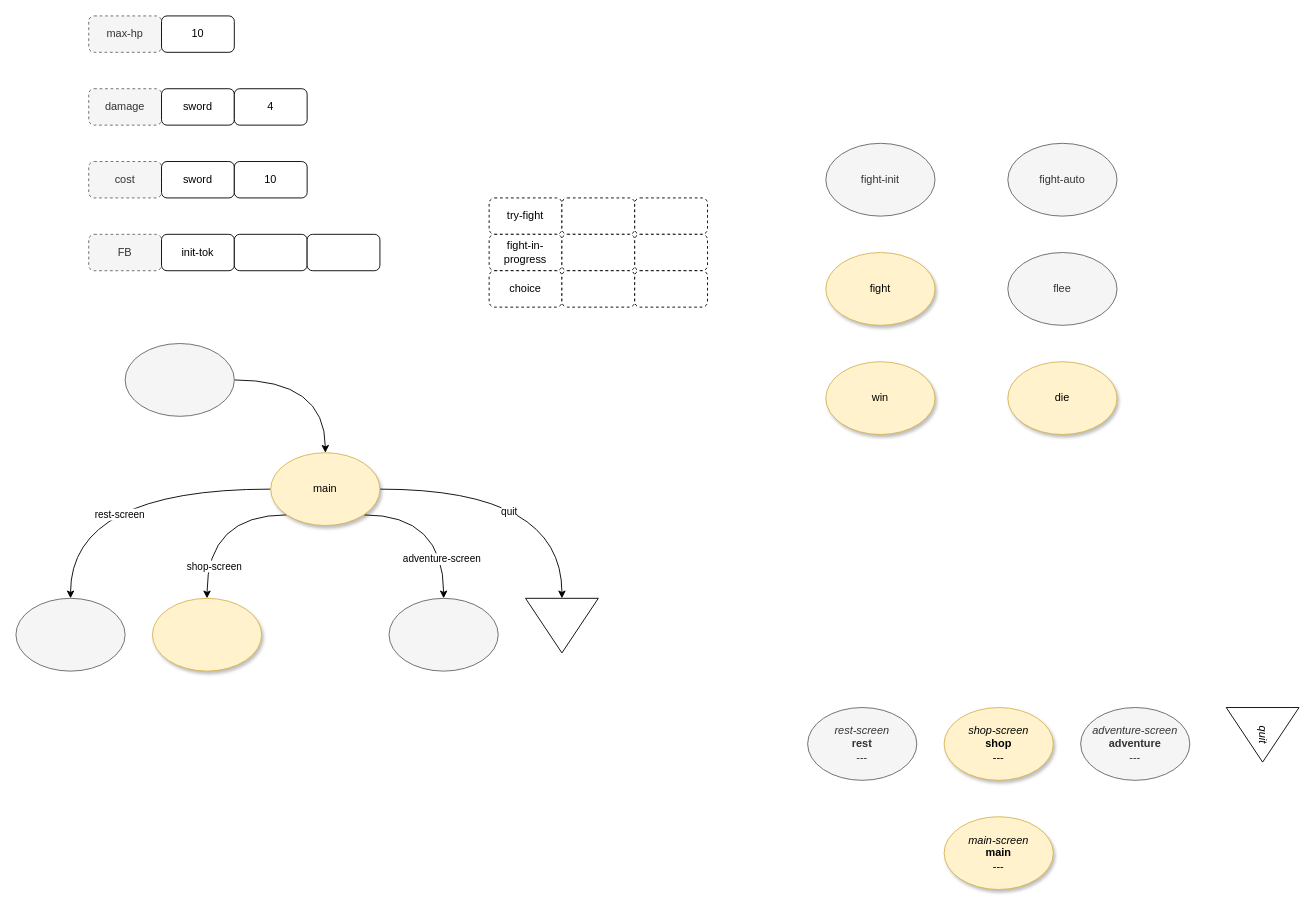
The diagram is 1315 pixels wide and 912 high, and some of its shapes have lost their labels. Here are the shapes that lost their labels. From the top down, the centre of each, then its label:
[179,379]: init
[70,634]: rest
[207,635]: shop
[443,634]: adventure
